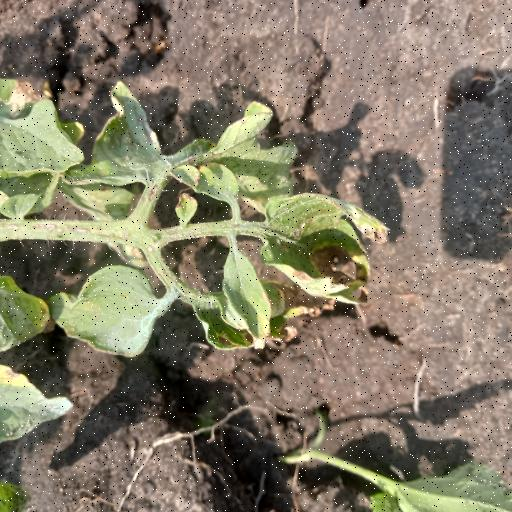Tomato_Brown_Spots: (71, 80, 300, 216), (252, 192, 390, 313), (56, 263, 164, 361)
